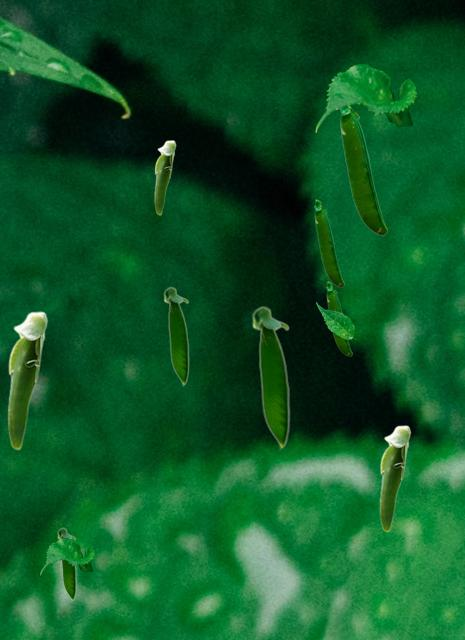pea: (339, 106, 386, 234), (7, 311, 47, 449), (251, 305, 289, 450), (379, 425, 410, 531), (314, 199, 343, 286), (163, 286, 188, 386), (326, 281, 351, 355), (154, 140, 175, 214), (57, 527, 75, 601)
